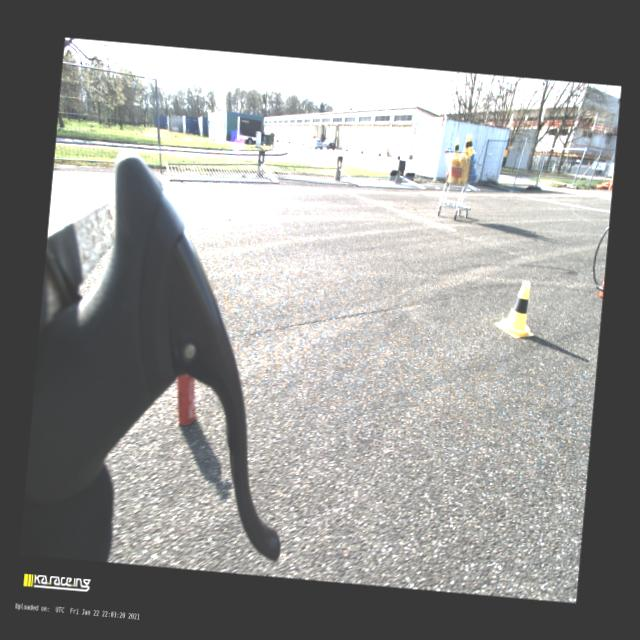yellow_cone: (493, 278, 538, 338), (462, 134, 470, 152), (469, 134, 476, 152), (454, 137, 459, 151)
